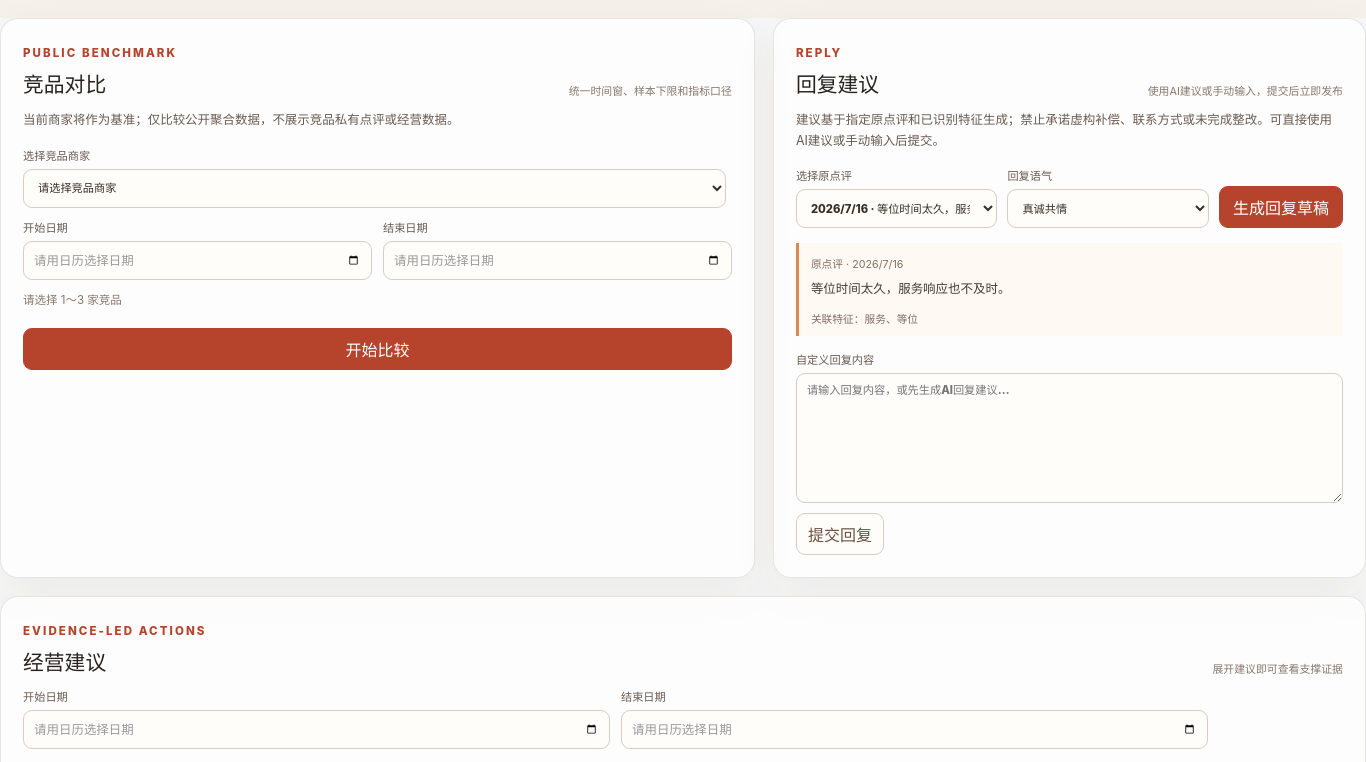
Test: MerchantInsightWorkbench › uses a two-to-four merchant comparison and renders the backend aggregates
This screenshot has width=1366, height=762.
// Select a competitor from the dropdown
Select "竞品 A（面馆）" in the dropdown labelled "选择竞品商家". click: (374, 188)
box: [23,169,726,208]
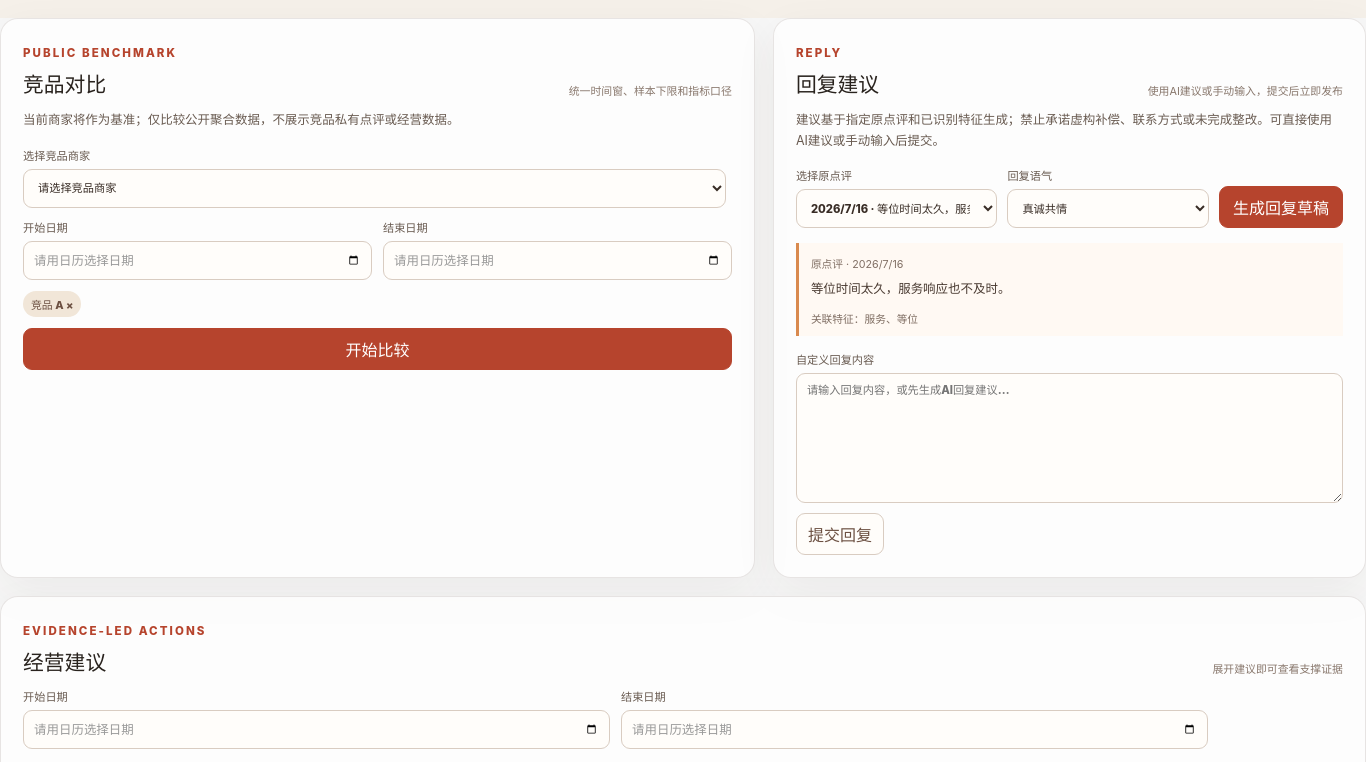
Submit the form with class "compare-form", box [23,147,732,370]
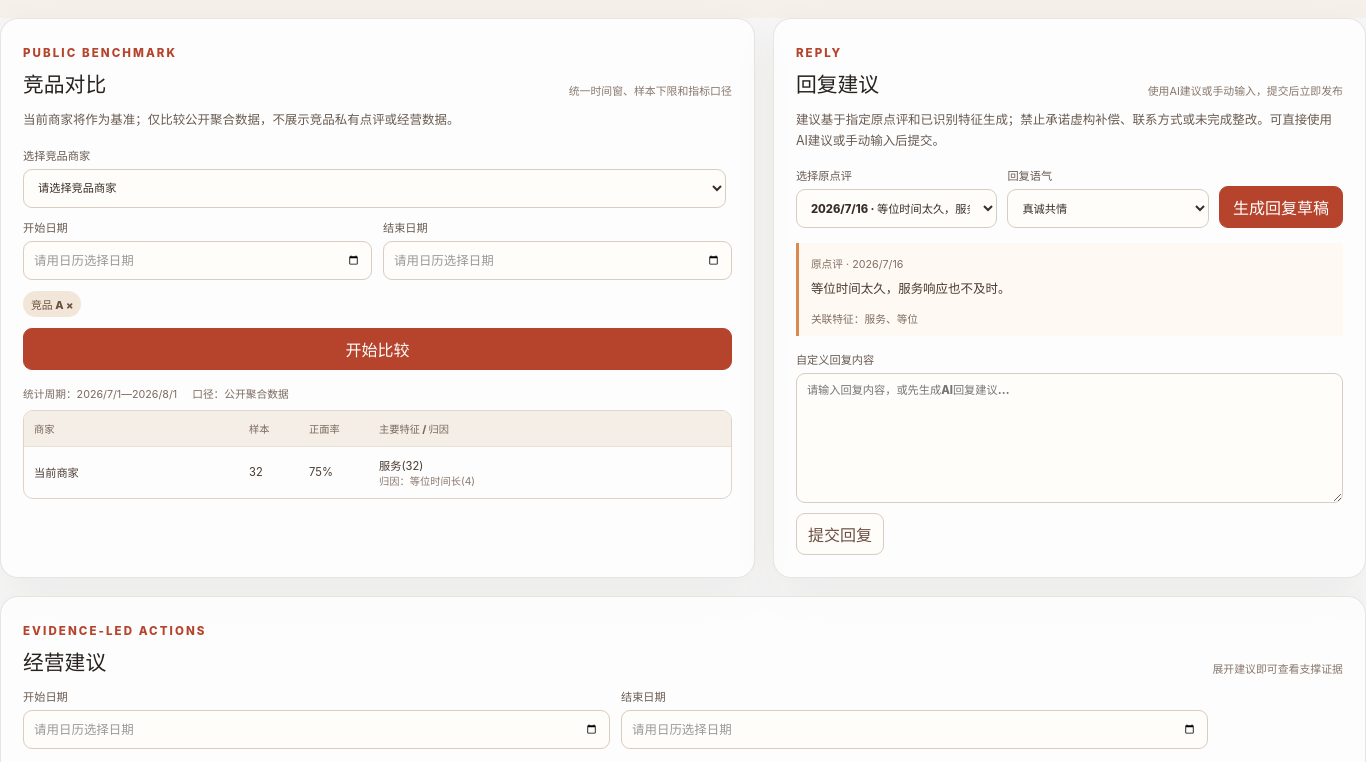
expect the text "当前商家" is shown: met, box [23,112,459,127]
expect the text "服务(32)" is shown: met, box [379,459,423,473]
expect the text "等位时间长(4)" is shown: met, box [379,475,475,487]
